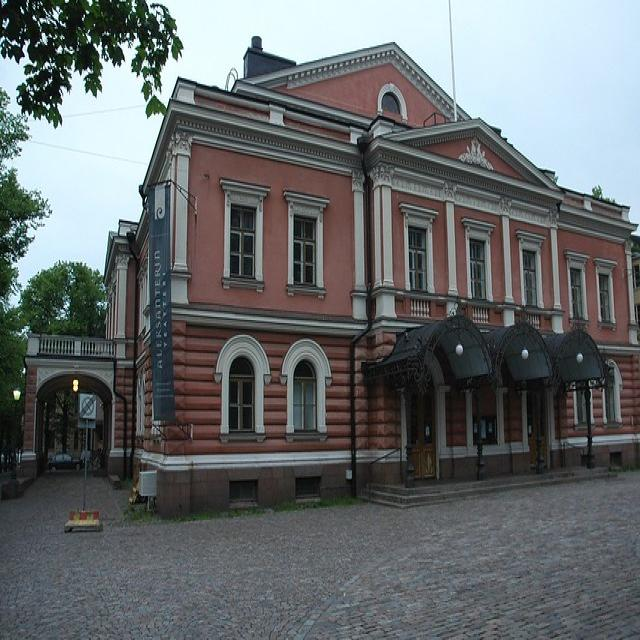building: (100, 35, 640, 516)
